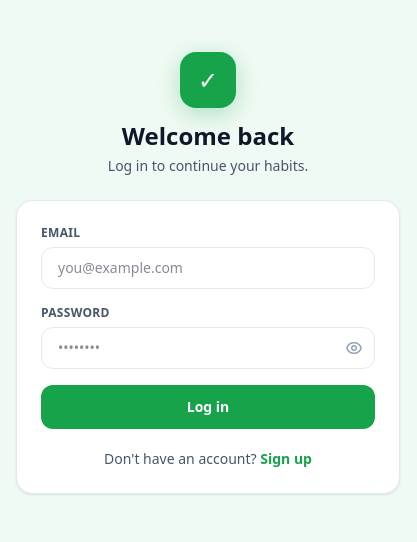
Scenario: auth flow › shows an error for invalid login credentials
Step 1. Type "wrong@mail.com" into the field with test id "auth-login-email" → coordinates (208, 268), box top-left (41, 247), bottom-right (375, 289)
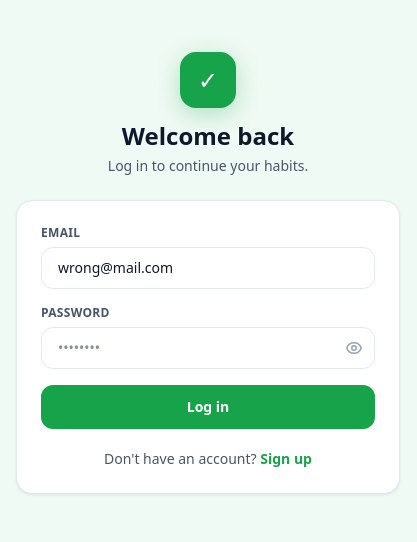
Step 2. Type "wrong" into the password field with test id "auth-login-password" → coordinates (208, 348), box top-left (41, 327), bottom-right (375, 369)
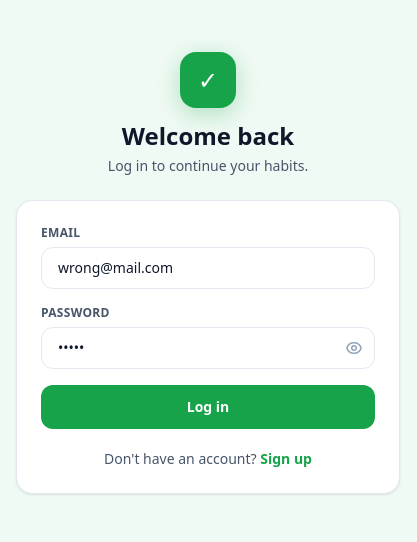
Step 3. Click the button with test id "auth-login-submit" → coordinates (208, 407), box top-left (41, 385), bottom-right (375, 429)
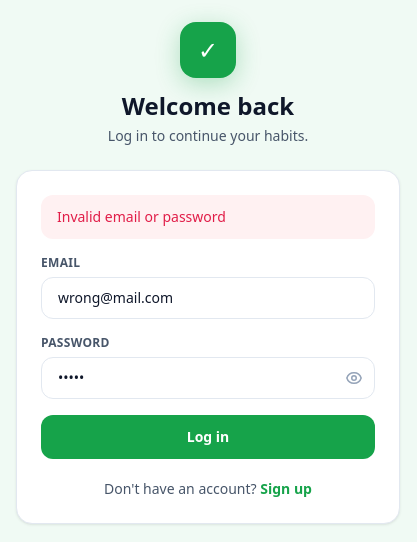
Now the text "Invalid email or password" is shown, box top-left (41, 195), bottom-right (375, 239)
